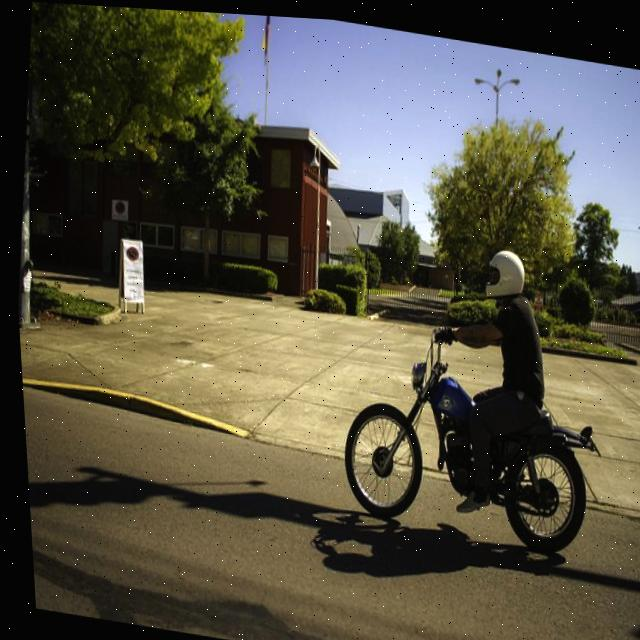motorcycle: (323, 302, 627, 585)
